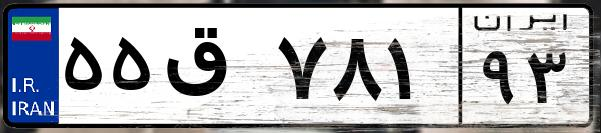1: (385, 28, 445, 110)
3: (525, 38, 570, 115)
5: (57, 26, 110, 100), (110, 28, 158, 98)
7: (270, 28, 330, 110)
8: (330, 28, 385, 110)
9: (475, 38, 525, 113)
ق: (158, 20, 270, 120)
